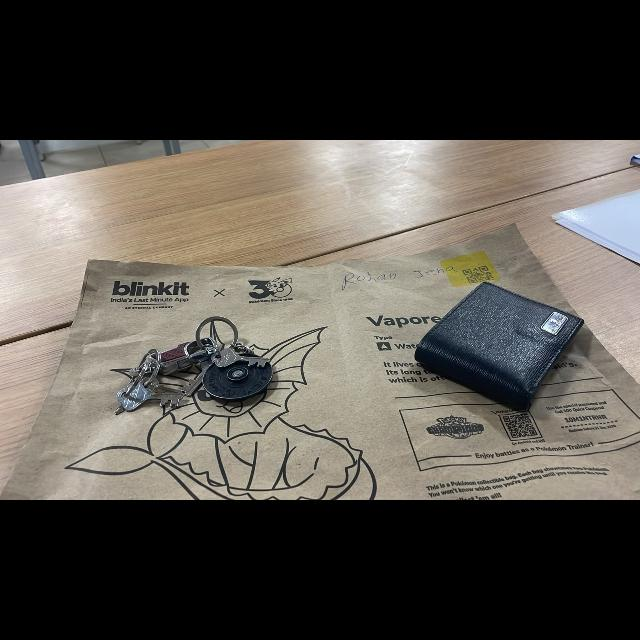keys: (107, 312, 287, 424)
wallet: (401, 275, 587, 427)
